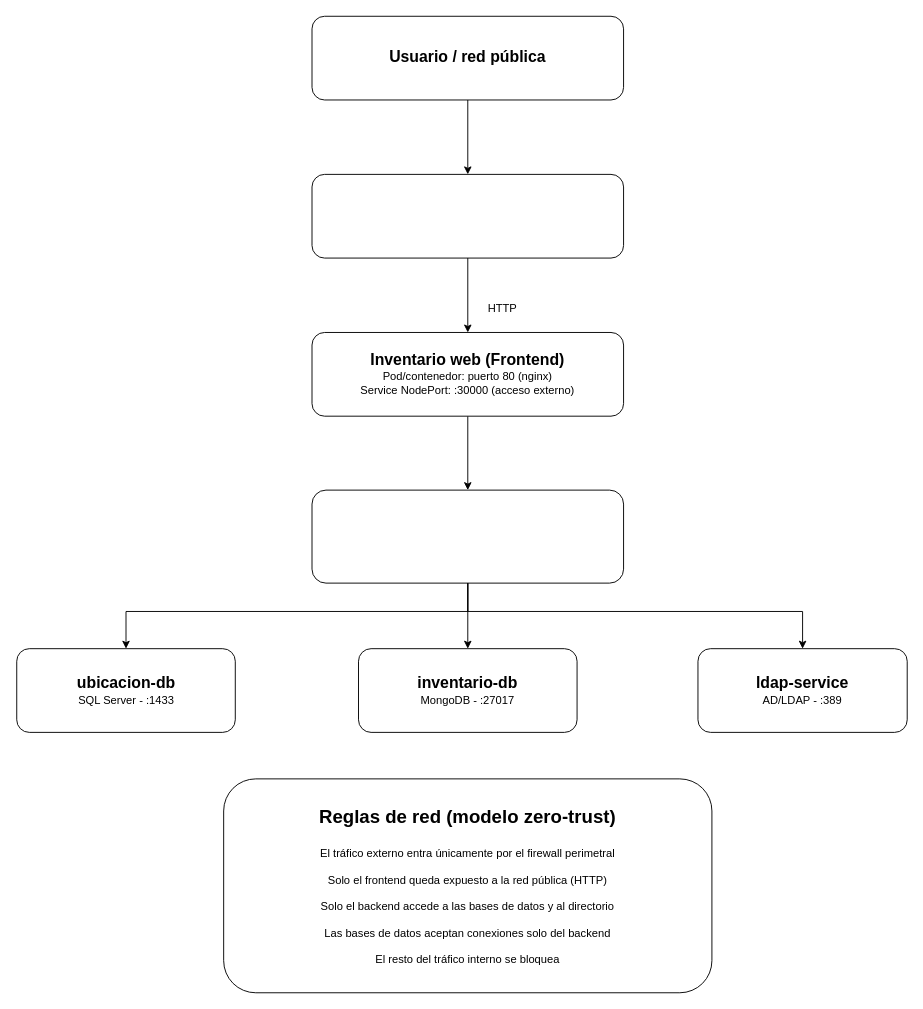
The diagram is 923 pixels wide and 1009 high, and some of its shapes have lost their labels. Here are the shapes that lost their labels. From the top down, the centre of each, then its label:
At pixel 467 215: "Firewall perimetral (pfSense) Único punto de entrada Aplicación de reglas NAT".
At pixel 467 536: "Backend (Spring Boot) Pod/contenedor: puerto 8080 Service NodePort: :30001".
